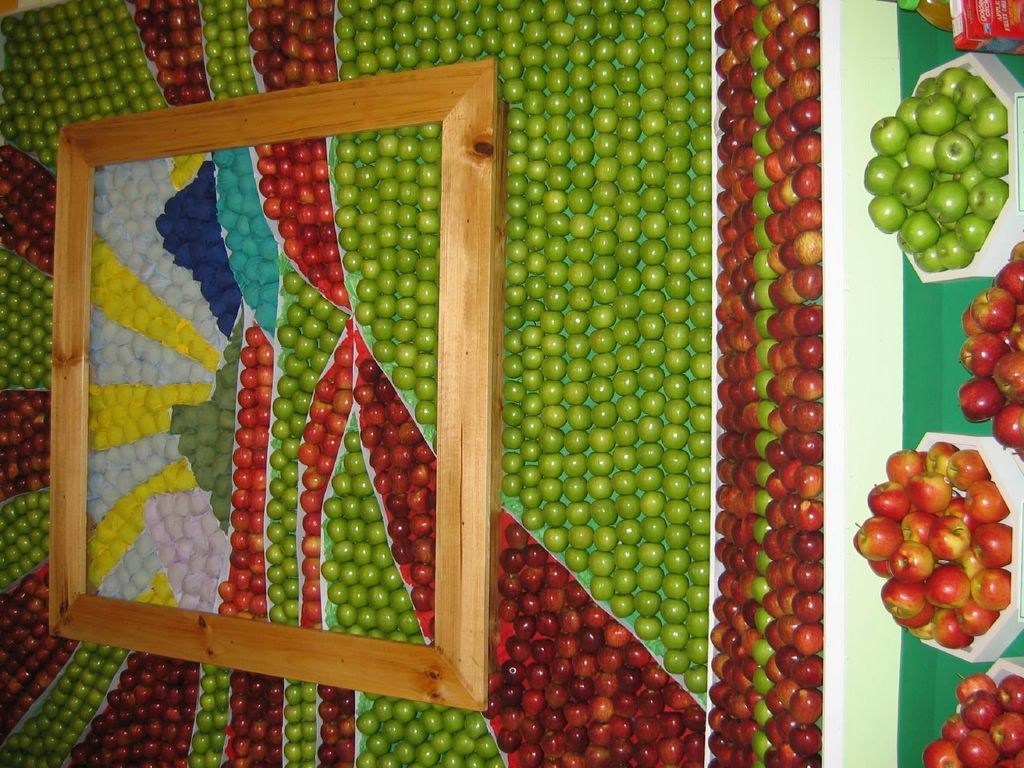Tomato: (0, 0, 822, 767), (848, 440, 1012, 644), (858, 67, 1007, 268), (956, 243, 1023, 448), (924, 672, 1023, 767)
